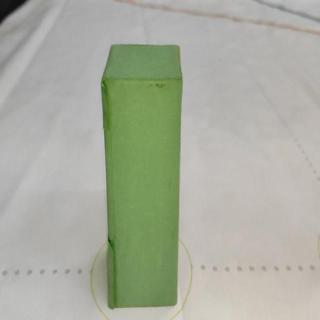greenbox: (98, 39, 184, 311)
